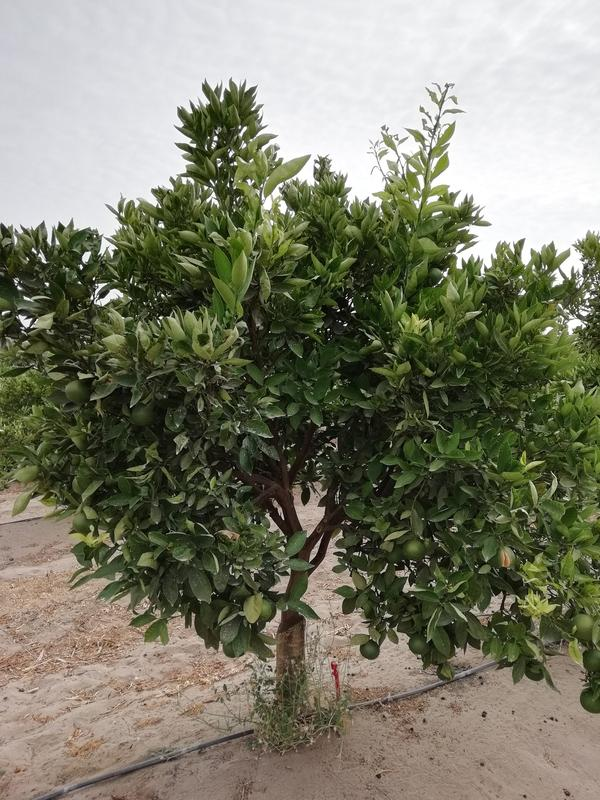mandarina verde: (572, 613, 597, 641), (66, 381, 93, 403), (129, 404, 155, 426), (403, 539, 427, 561), (581, 687, 600, 713), (359, 639, 382, 660), (408, 634, 429, 656), (582, 648, 600, 672), (257, 599, 275, 622), (73, 513, 92, 533), (429, 268, 444, 281)
